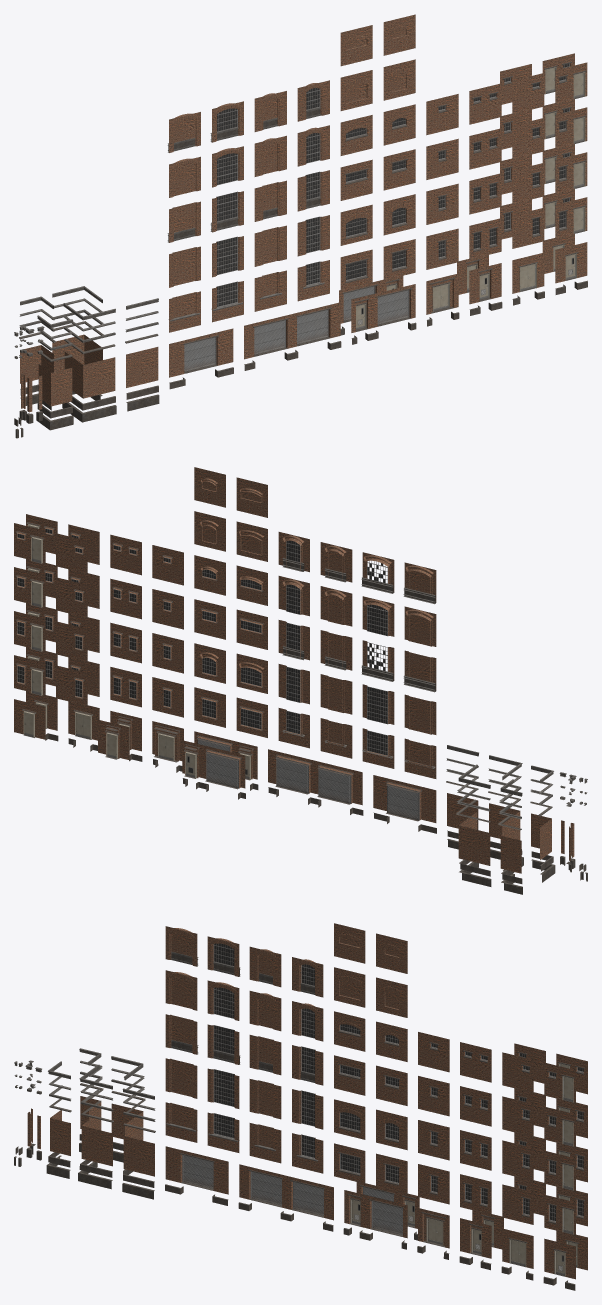
The model's file is modular_factory_facade.glb.
3 renders of one model, top to bottom at view 1: azimuth 30°, elevation 25°; view 2: azimuth 150°, elevation 25°; view 3: azimuth 330°, elevation 25°, orthographic.
Parts seen in each view (by area): view 1: door_garage_double_01, wall_standard_corner_large_01, wall_door_garage_double_01, door_garage_door_01, wall_door_garage_centered_01, wall_window_centered_medium_05, wall_window_tall_small_09, wall_standard_standard_01, wall_window_centered_large_05, wall_window_centered_medium_06, wall_window_tall_small_07, wall_window_centered_large_06 (+57 smaller); view 2: door_garage_double_01, door_garage_door_02, wall_door_garage_double_01, wall_door_garage_centered_01, wall_standard_corner_large_02, wall_window_tall_large_09, wall_window_tall_small_09, wall_window_tall_large_07, wall_window_tall_small_07, wall_window_tall_small_06, wall_window_tall_large_06, wall_window_centered_medium_06 (+62 smaller); view 3: door_garage_double_01, wall_door_garage_double_01, door_garage_door_01, wall_door_garage_centered_01, wall_standard_corner_large_01, wall_window_tall_large_09, wall_window_tall_large_07, wall_window_tall_small_07, wall_window_tall_small_09, wall_window_tall_small_06, wall_window_centered_large_05, wall_window_tall_large_06 (+67 smaller).
Part boxes in pixels (<box>): door_garage_double_01: <box>253,307,331,356</box>; wall_standard_corner_large_01: <box>64,352,115,398</box>; wall_door_garage_double_01: <box>244,302,340,359</box>; door_garage_door_01: <box>355,288,412,331</box>; wall_door_garage_centered_01: <box>169,328,233,377</box>; wall_window_centered_medium_05: <box>383,59,415,100</box>; wall_window_tall_small_09: <box>254,135,286,176</box>; wall_standard_standard_01: <box>126,347,158,387</box>; wall_window_centered_large_05: <box>340,70,372,110</box>; wall_window_centered_medium_06: <box>383,14,415,55</box>; wall_window_tall_small_07: <box>254,225,286,266</box>; wall_window_centered_large_06: <box>340,25,372,66</box>; door_garage_double_01: <box>275,754,353,804</box>; door_garage_door_02: <box>184,744,241,789</box>; wall_door_garage_double_01: <box>268,749,362,805</box>; wall_door_garage_centered_01: <box>373,775,436,822</box>; wall_standard_corner_large_02: <box>458,812,490,865</box>; wall_window_tall_large_09: <box>404,606,436,646</box>; wall_window_tall_small_09: <box>320,586,352,626</box>; wall_window_tall_large_07: <box>404,694,436,734</box>; wall_window_tall_small_07: <box>320,674,352,714</box>; wall_window_tall_small_06: <box>320,718,352,758</box>; wall_window_tall_large_06: <box>404,738,436,778</box>; wall_window_centered_medium_06: <box>194,467,225,507</box>; door_garage_double_01: <box>248,1169,324,1217</box>; wall_door_garage_double_01: <box>239,1164,333,1220</box>; door_garage_door_01: <box>348,1194,403,1236</box>; wall_door_garage_centered_01: <box>165,1146,228,1194</box>; wall_standard_corner_large_01: <box>81,1112,112,1166</box>; wall_window_tall_large_09: <box>165,970,197,1010</box>; wall_window_tall_large_07: <box>165,1058,197,1098</box>; wall_window_tall_small_07: <box>249,1079,281,1119</box>; wall_window_tall_small_09: <box>249,991,281,1031</box>; wall_window_tall_small_06: <box>249,1123,281,1163</box>; wall_window_centered_large_05: <box>334,967,365,1007</box>; wall_window_tall_large_06: <box>165,1102,197,1142</box>.
Bounding box in the file's own units: 53.33 × 29 × 5.36.
6 materials, 6 textured.
